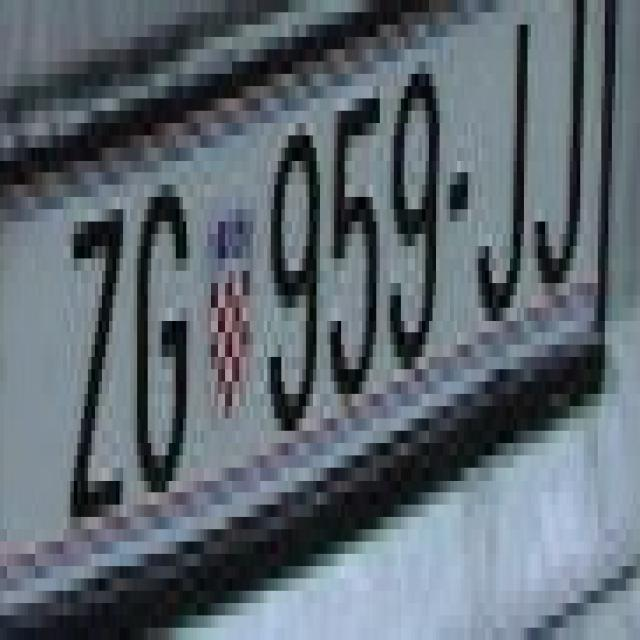5: (327, 74, 380, 394)
9: (264, 135, 320, 431), (390, 61, 440, 382)
G: (130, 160, 187, 492)
Z: (66, 196, 124, 530)
